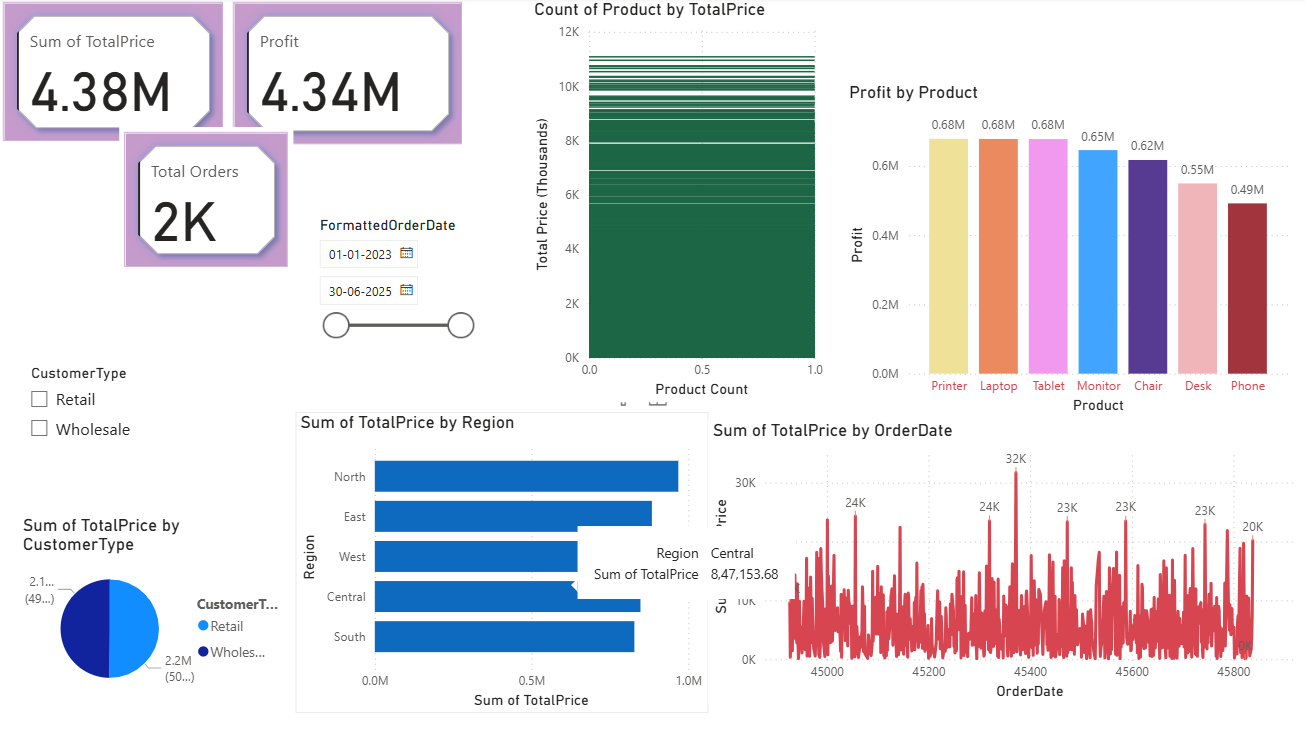

The page's visual inventory and layout, read from the dashboard file:
{"tool":"powerbi","page":{"name":"Page 1","canvas":[1280,720],"ordinal":0},"visuals":[{"type":"barChart","fields":{"Category":["Sheet1.Region"],"Y":["Sum(Sheet1.TotalPrice)"]},"box":[291,406,403.5,294.7],"z":0},{"type":"clusteredBarChart","fields":{"Y":["CountNonNull(Sheet1.Product)"],"Category":["Sheet1.TotalPrice"]},"box":[520.1,1.4,292.3,395.2],"z":1000},{"type":"actionButton","box":[0,0,100,40],"z":2000},{"type":"clusteredColumnChart","fields":{"Category":["Sheet1.Product"],"Y":["Sheet1.Profit"]},"box":[827.4,83.7,439.1,329.3],"z":3000},{"type":"lineChart","fields":{"Category":["Sheet1.OrderDate"],"Y":["Sum(Sheet1.TotalPrice)"]},"box":[694.3,413,585.9,278.6],"z":4000},{"type":"slicer","fields":{"Values":["Sheet1.CustomerType"]},"box":[19.2,354,234.6,100.2],"z":5000},{"type":"cardVisual","fields":{"Data":["Sum(Sheet1.TotalPrice)"]},"box":[0,0,225,146.8],"z":6000},{"type":"cardVisual","fields":{"Data":["Sheet1.Profit"]},"box":[225,0,234.6,149.6],"z":7000},{"type":"cardVisual","fields":{"Data":["Sheet1.Total Orders"]},"box":[118,127.6,170.2,142.7],"z":8000},{"type":"slicer","fields":{"Values":["Sheet1.FormattedOrderDate"]},"box":[301.9,208.6,171.5,150.9],"z":9000},{"type":"pieChart","fields":{"Category":["Sheet1.CustomerType"],"Y":["Sum(Sheet1.TotalPrice)"]},"box":[19.2,506.3,269,185.2],"z":10000}]}

Visuals, with their boxes in screenshot pixels (x1, y1, x2, y2), scaled from the page's 1280x720 canvas onto the 1305x732 screenshot:
barChart - Sheet1.Region x Sum(Sheet1.TotalPrice): 297, 413, 708, 712
clusteredBarChart - CountNonNull(Sheet1.Product) x Sheet1.TotalPrice: 530, 1, 828, 403
actionButton: 0, 0, 102, 41
clusteredColumnChart - Sheet1.Product x Sheet1.Profit: 844, 85, 1291, 420
lineChart - Sheet1.OrderDate x Sum(Sheet1.TotalPrice): 708, 420, 1304, 703
slicer - Sheet1.CustomerType: 20, 360, 259, 462
cardVisual - Sum(Sheet1.TotalPrice): 0, 0, 229, 149
cardVisual - Sheet1.Profit: 229, 0, 469, 152
cardVisual - Sheet1.Total Orders: 120, 130, 294, 275
slicer - Sheet1.FormattedOrderDate: 308, 212, 483, 365
pieChart - Sheet1.CustomerType x Sum(Sheet1.TotalPrice): 20, 515, 294, 703
